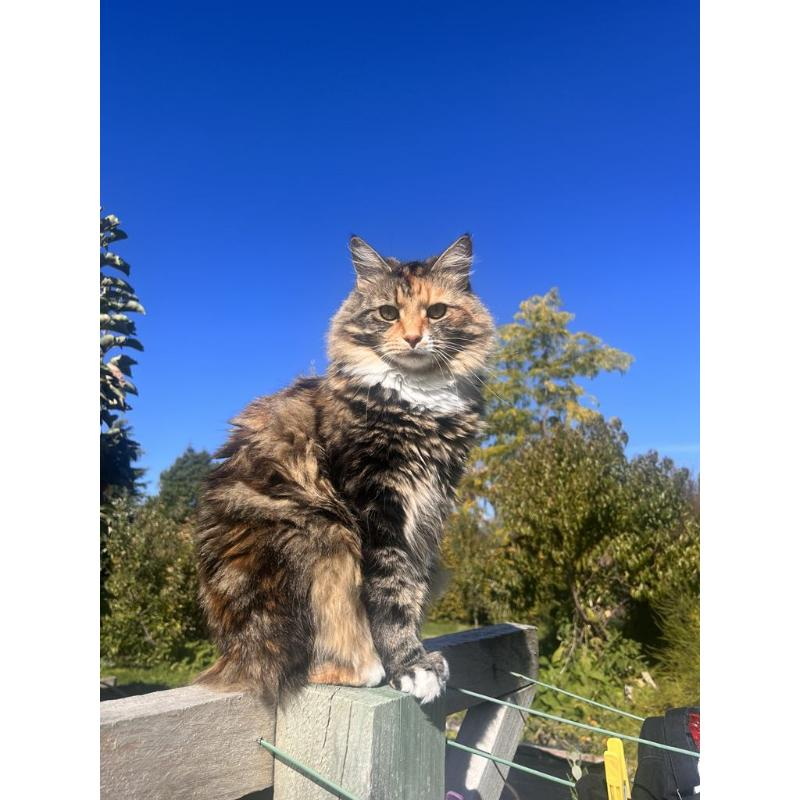red: (187, 233, 497, 703)
